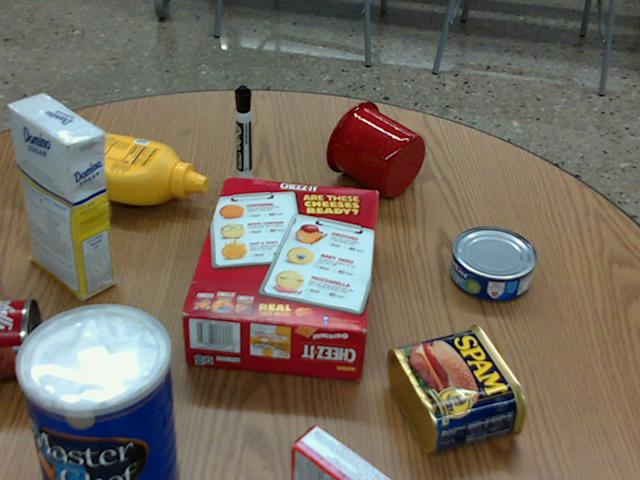cracker_box: (180, 179, 377, 378)
gelatin_box: (289, 423, 390, 479)
large_marker: (234, 85, 251, 182)
master_chef_can: (12, 302, 176, 479)
mug: (326, 101, 425, 197)
mustard_bottle: (25, 124, 206, 204)
potted_meat_can: (388, 324, 526, 454)
sugar_box: (8, 92, 111, 299)
tomato_soup_can: (0, 296, 40, 374)
tuna_fish_can: (450, 226, 536, 301)
